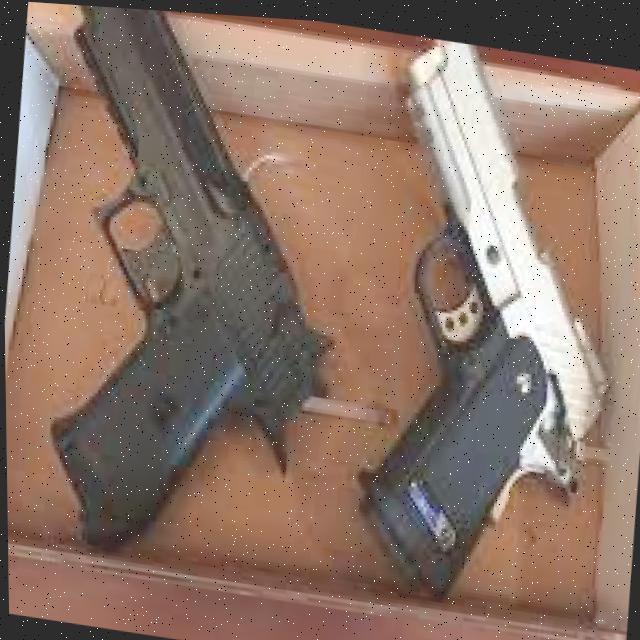pistol: (21, 1, 368, 585), (335, 22, 640, 624)
